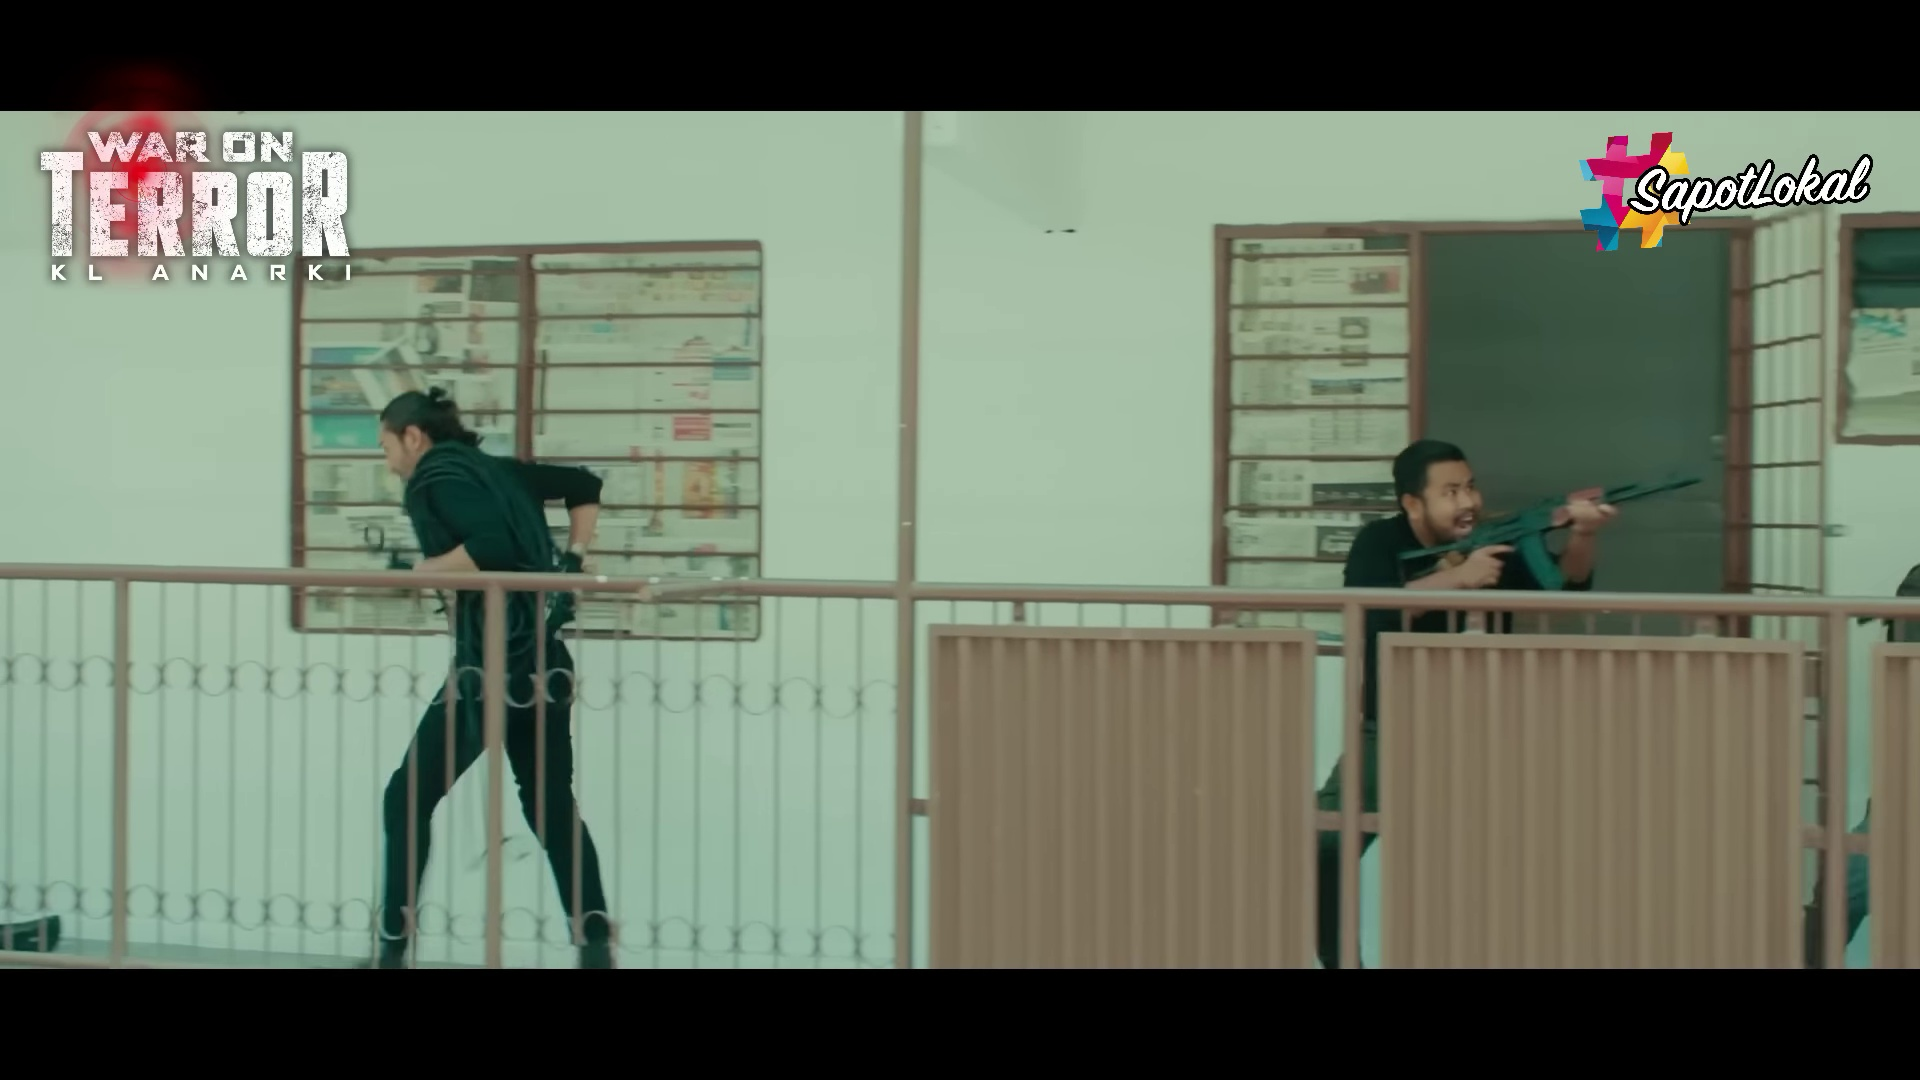gun: (1391, 473, 1704, 597)
p_w_gun: (1294, 436, 1705, 969)
p_wo_gun_carrying_another_object: (352, 380, 620, 969)
